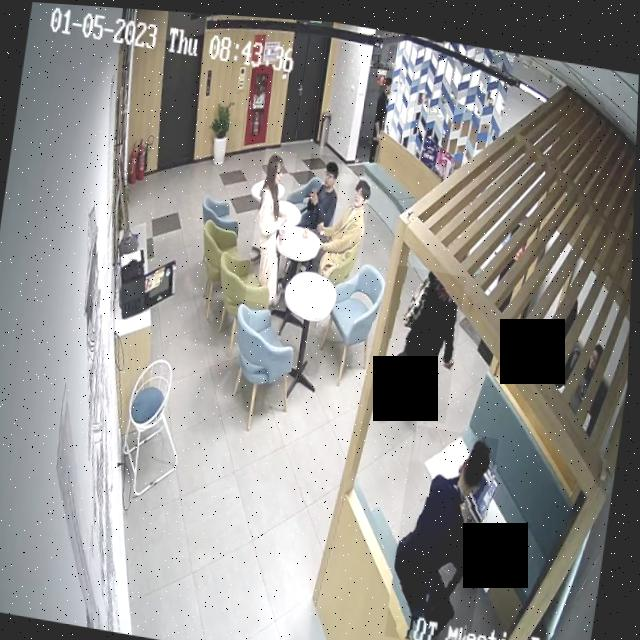person: (389, 417, 502, 640), (378, 258, 468, 417), (246, 144, 298, 302), (311, 165, 374, 280), (301, 148, 344, 229), (369, 71, 392, 159)
